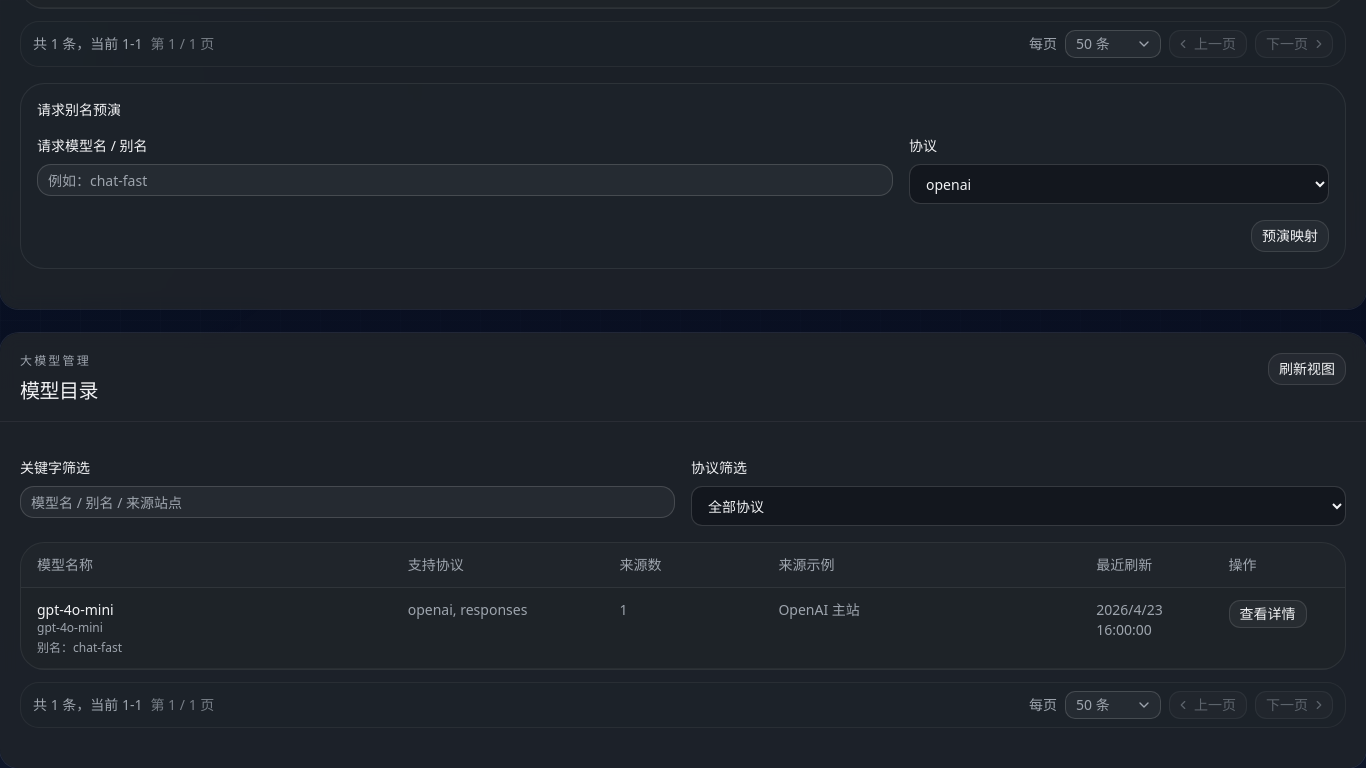
ModelsPage › renders model directory and alias table, and opens model detail dialog
(page scrolled)
Expected: the heading "模型目录" is shown, x1=20 y1=377 x2=98 y2=405
What coordinates should you click on to do the following:
click the button "查看详情"
I would click on:
 (1268, 614)
Its box is x1=1229 y1=600 x2=1307 y2=628.
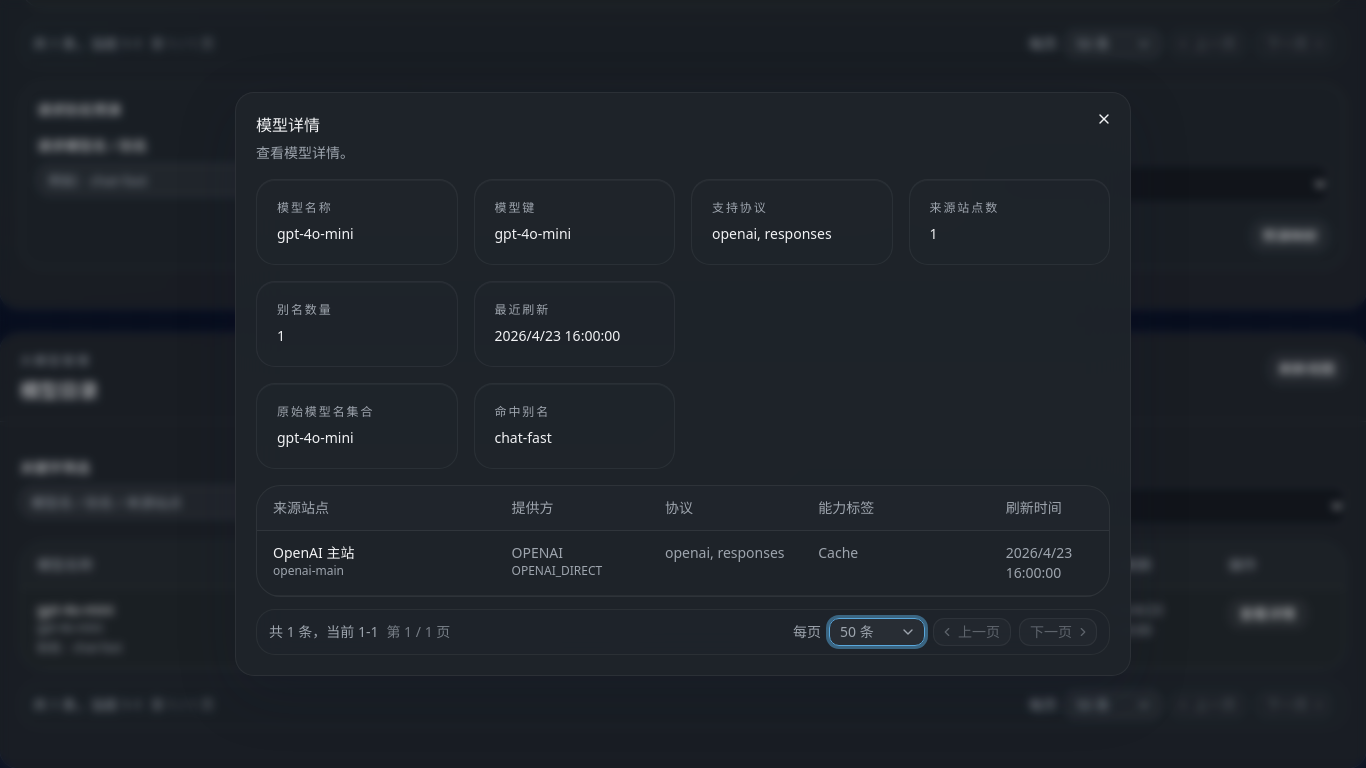
Expected: the text "OpenAI 主站" is shown, x1=762 y1=588 x2=1080 y2=668
Now the heading "模型详情" is shown, box x1=256 y1=114 x2=320 y2=136
